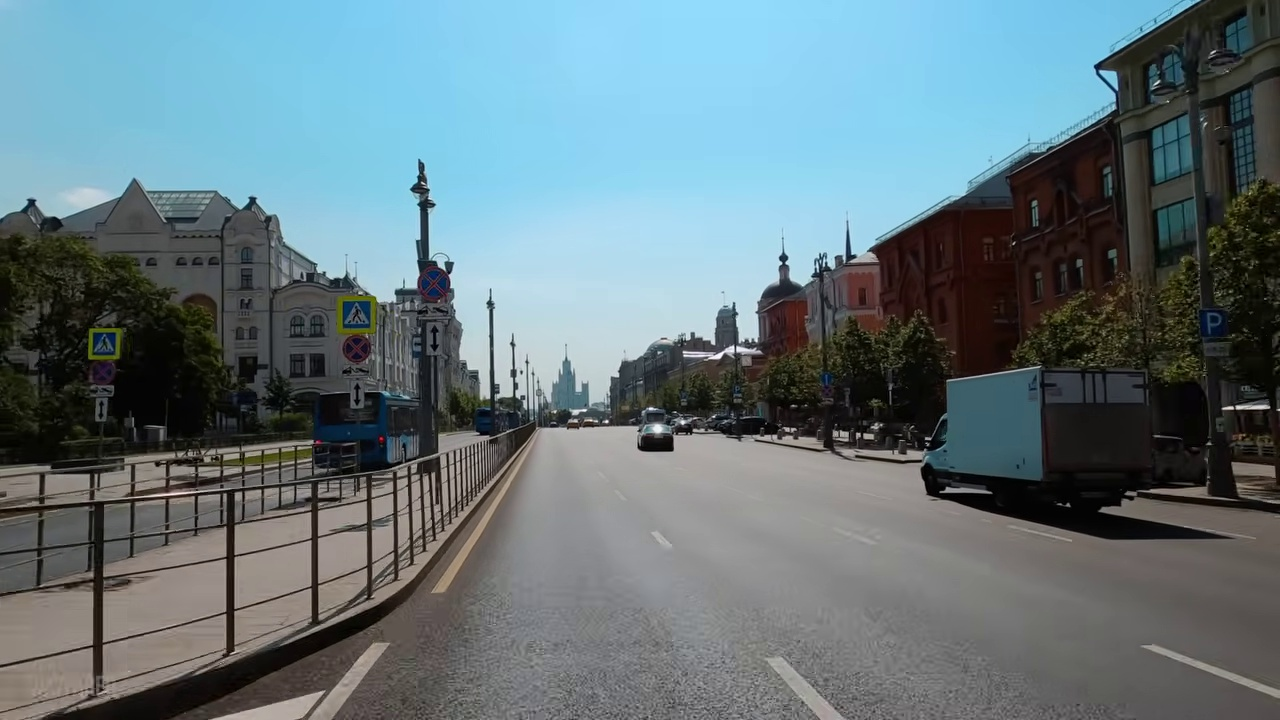apagada: (405, 178, 435, 216)
